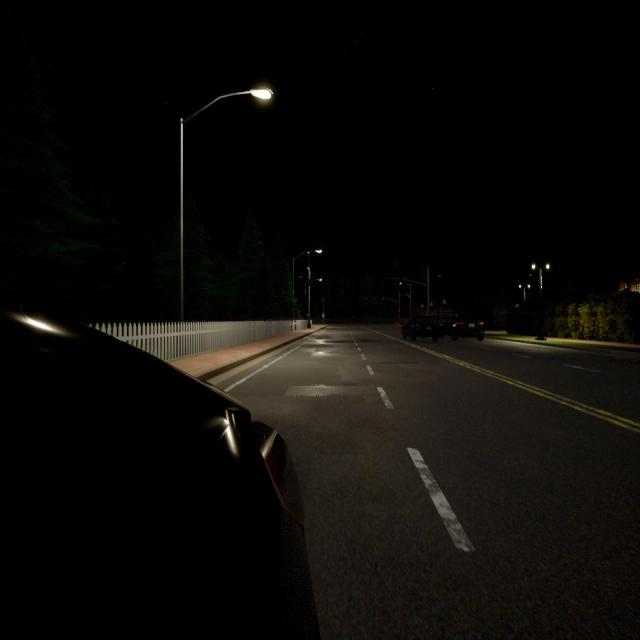Traffic_Signs: (322, 313, 325, 318)
Vehicle: (0, 290, 319, 640), (402, 316, 441, 343), (442, 316, 485, 340)
traffic_light: (399, 278, 402, 286), (365, 296, 367, 302), (373, 297, 375, 302), (398, 310, 400, 314), (383, 298, 384, 302)
